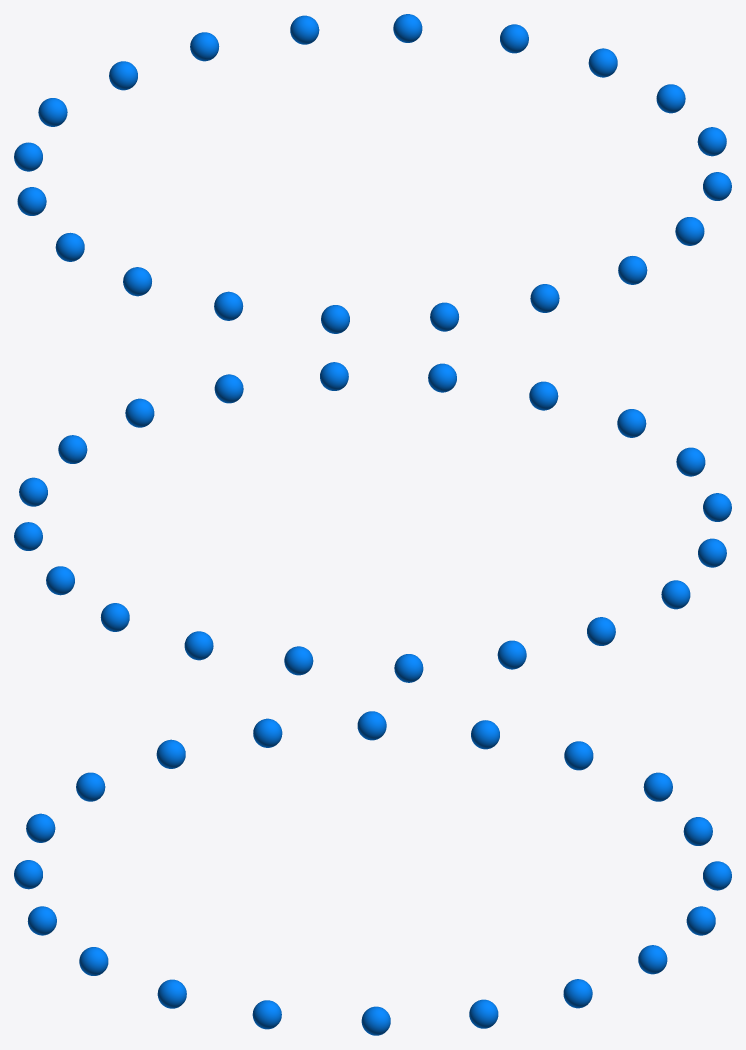
The picture shows the model from 3 angles, top to bottom: view 1: azimuth 30°, elevation 25°; view 2: azimuth 150°, elevation 25°; view 3: azimuth 270°, elevation 25°; orthographic projection.
Visible parts, largest first — view 1: Sphere052; view 2: Sphere052; view 3: Sphere052.
Part boxes in pixels (x1,y1,x2,y2): Sphere052: (14,14,731,333); Sphere052: (14,362,731,682); Sphere052: (14,711,731,1035).
Size of the model in its own units: 204 by 8.22 by 202.
